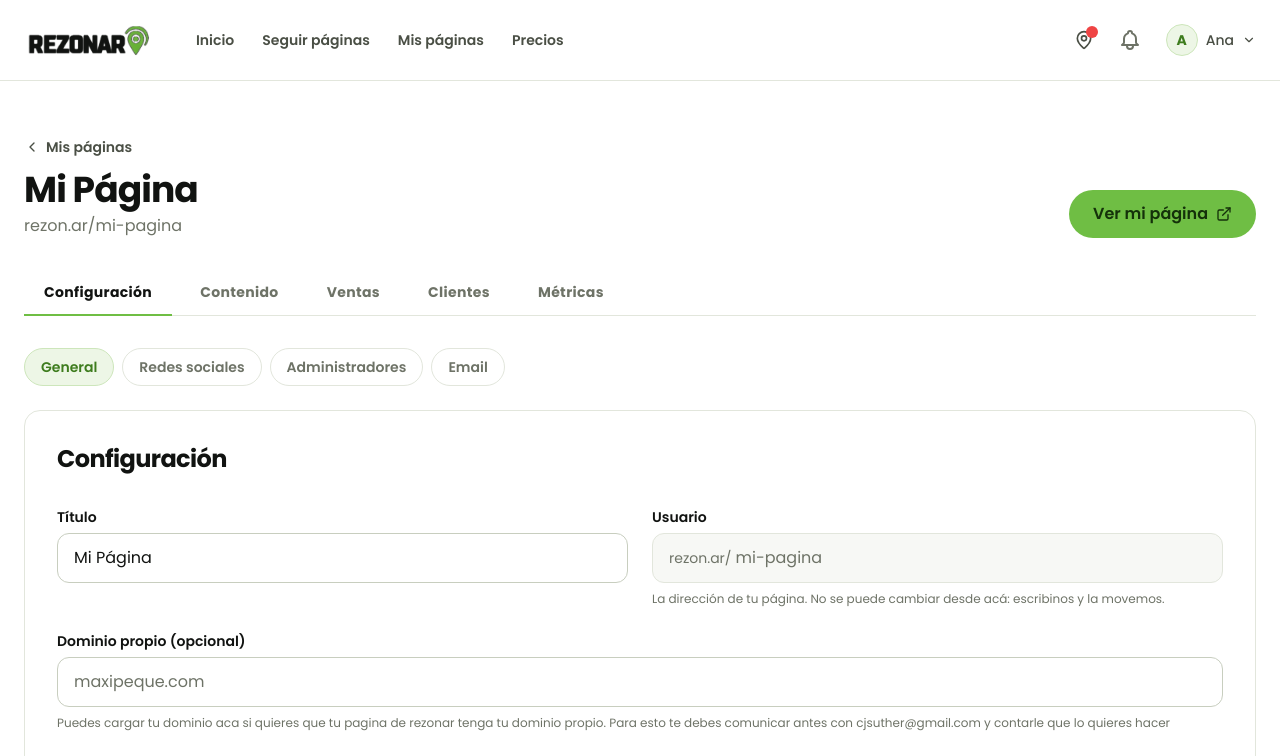
it: PageEditor — modales de link › imagen al crear un link › rechaza una imagen demasiado grande
Expected: the heading "Mi Página" is shown, top-left (24, 170), bottom-right (198, 210)
Click the button "Contenido" at (239, 293), box top-left (180, 270), bottom-right (299, 316)
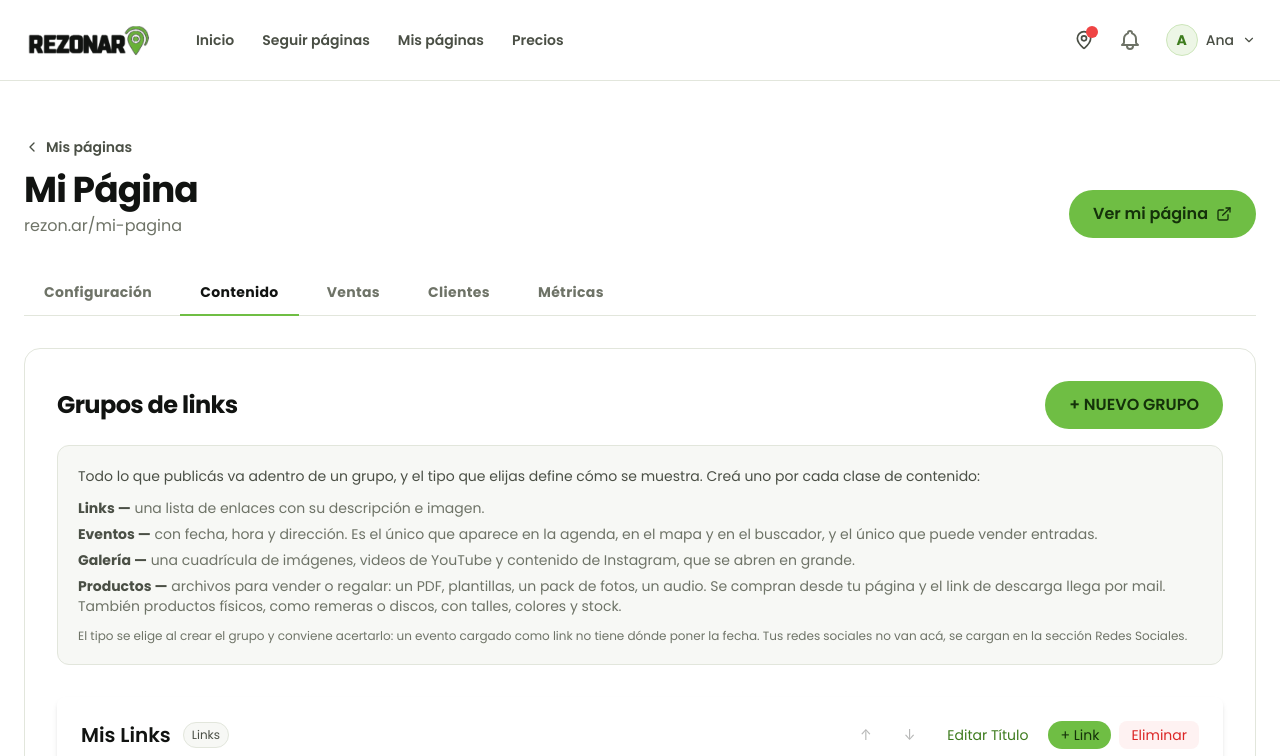
Result: the heading "Grupos de links" is shown at top-left (57, 389), bottom-right (238, 421)
Click the button "+ Link" at (1080, 735), box top-left (1048, 721), bottom-right (1111, 749)
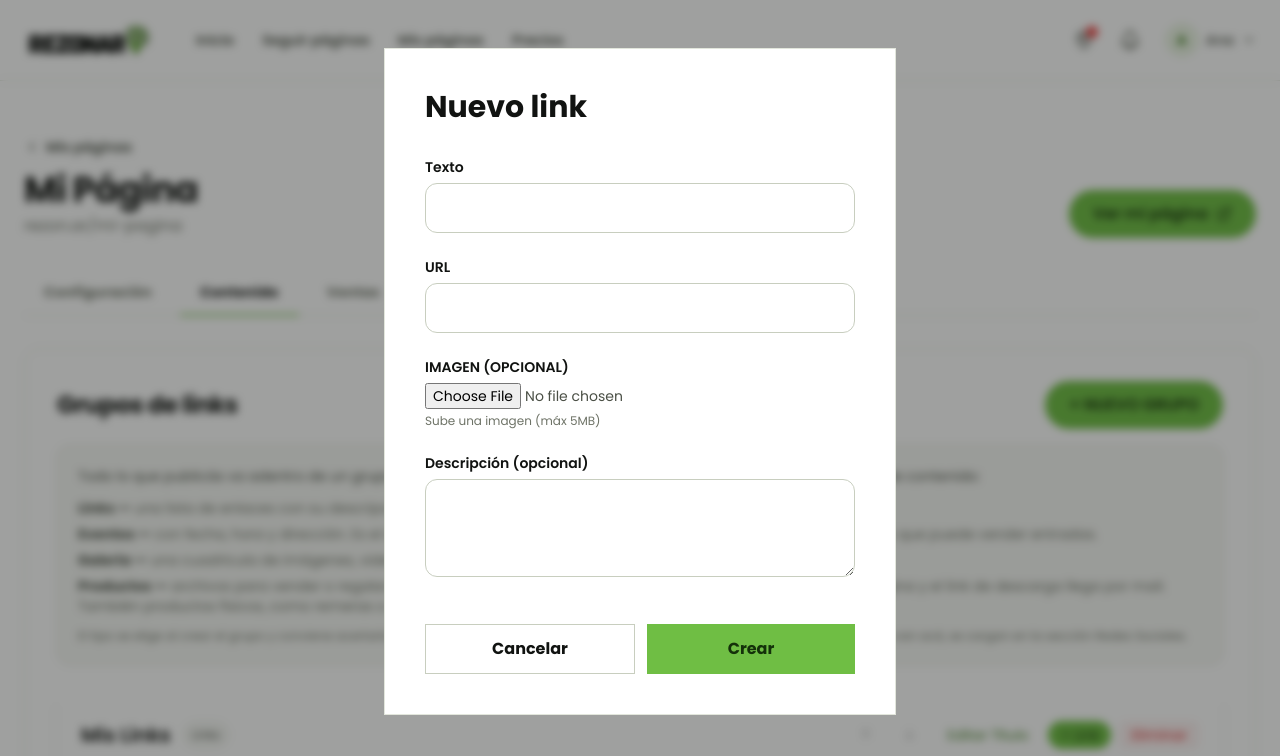
Result: the button "Crear" is shown at top-left (647, 624), bottom-right (855, 674)
